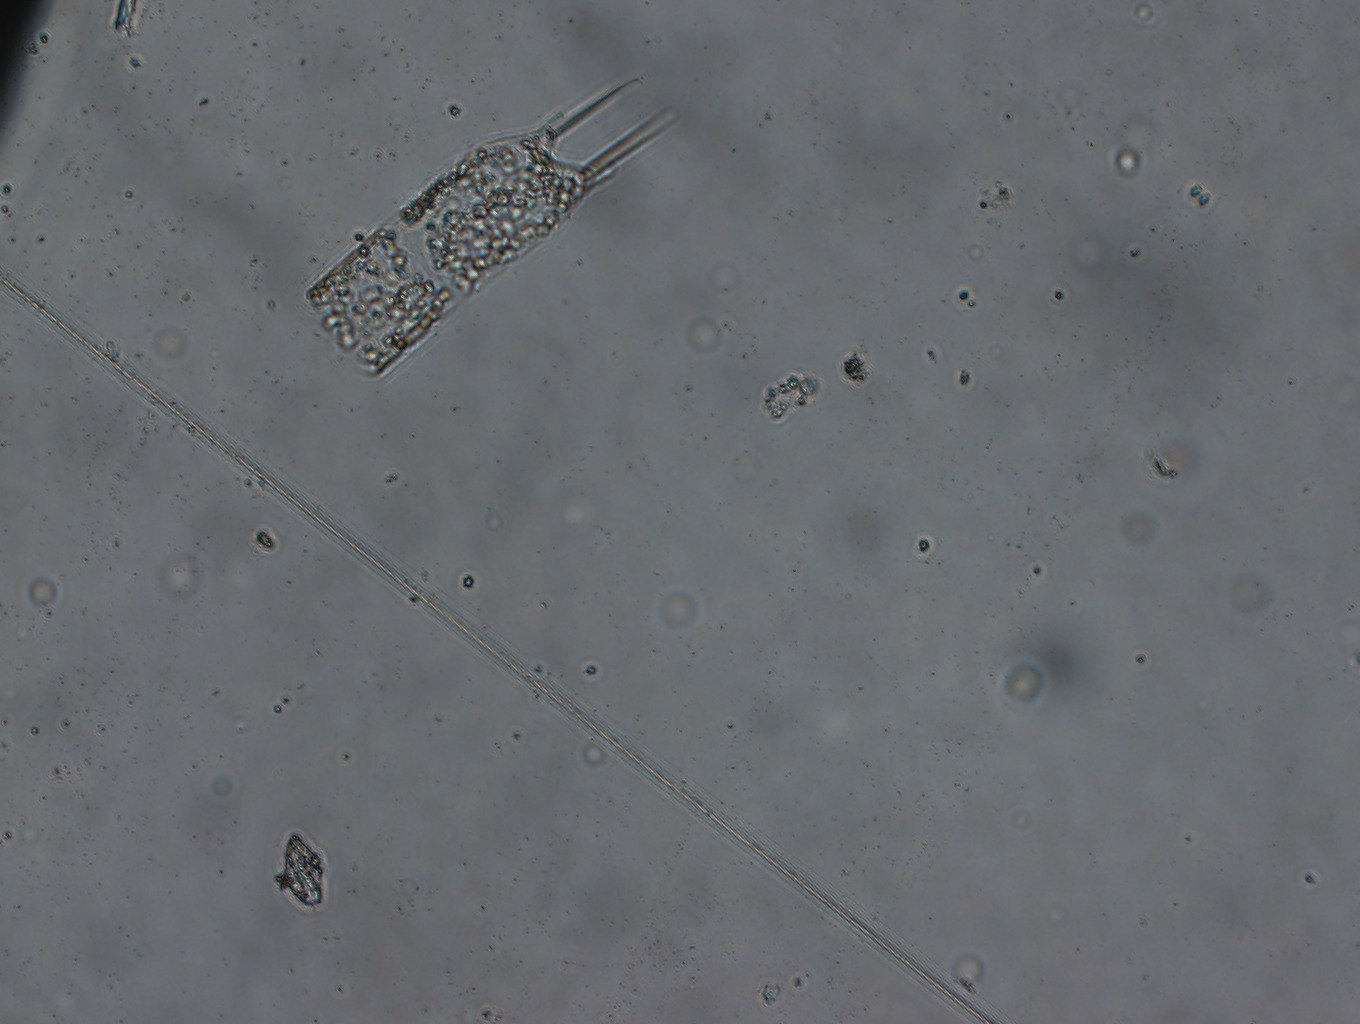biddulphia: (301, 73, 687, 380)
